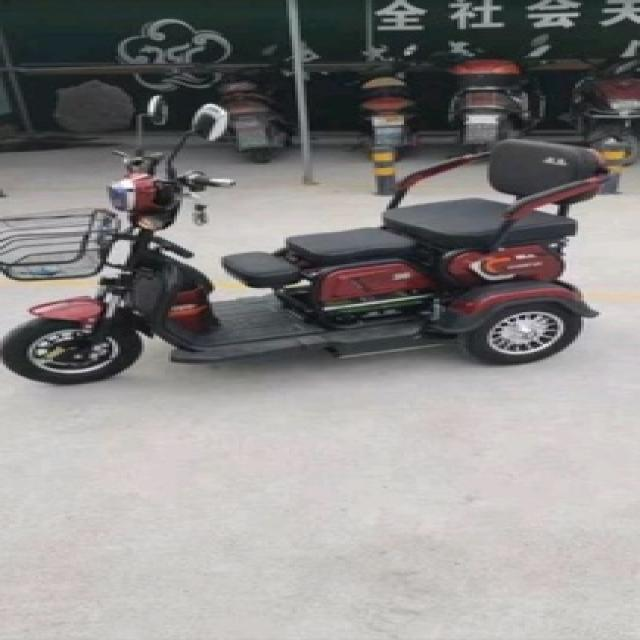motorbike: (424, 40, 552, 155), (324, 40, 422, 154), (192, 63, 292, 164)
tricycle: (6, 91, 637, 386)
warning_column: (590, 138, 625, 195), (363, 140, 395, 193)
